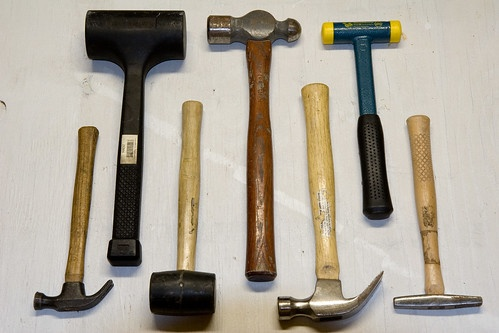hammer: (202, 13, 300, 280), (82, 11, 180, 263), (282, 83, 381, 324), (395, 116, 484, 312), (319, 21, 408, 216), (32, 125, 114, 315), (156, 101, 218, 320)
